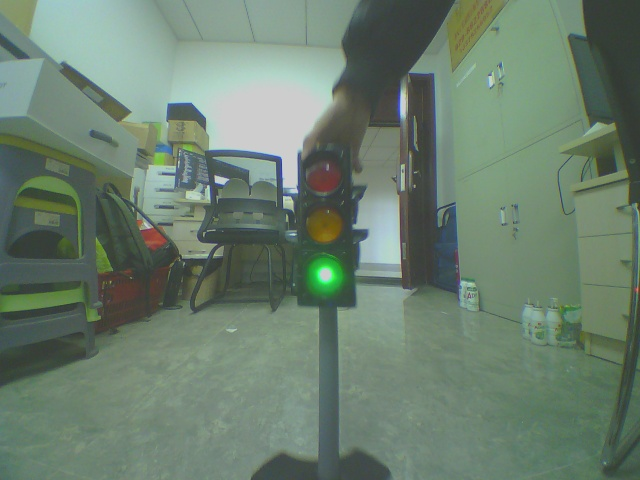Green: (290, 136, 409, 356)
